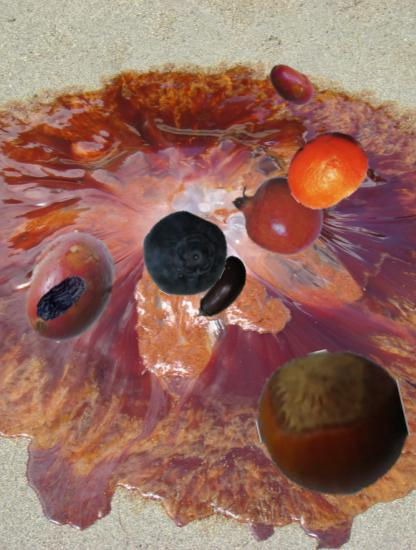Blueberry: (141, 212, 227, 298)
Clementine: (283, 124, 372, 213)
Dates: (31, 268, 92, 329)
Eggplant: (188, 253, 260, 325)
Nut: (258, 350, 406, 498)
Pomegranate: (230, 166, 326, 262)
Potato: (13, 230, 127, 344), (266, 60, 317, 111)
